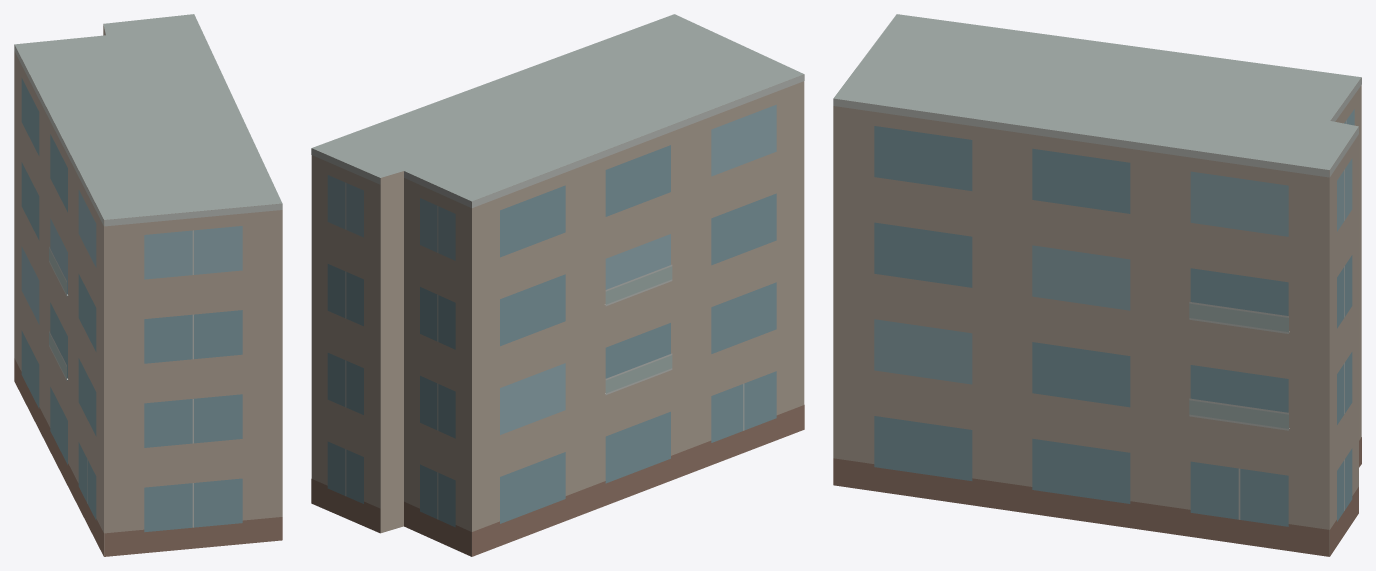
The model's file is survey-upis-32618248.glb.
3 views of the same model, side by side, from view 1: azimuth 30°, elevation 25°; view 2: azimuth 150°, elevation 25°; view 3: azimuth 270°, elevation 25° (orthographic). The views are drawn at different scales.
Visible parts, largest first — view 1: survey-upis-32618248.tmp; view 2: survey-upis-32618248.tmp; view 3: survey-upis-32618248.tmp.
Boxes of the visible parts, <box> form: survey-upis-32618248.tmp: <box>14,14,282,556</box>; survey-upis-32618248.tmp: <box>311,14,804,556</box>; survey-upis-32618248.tmp: <box>833,14,1361,556</box>.
Size of the model in its own units: 11.05 by 12.75 by 15.8.
